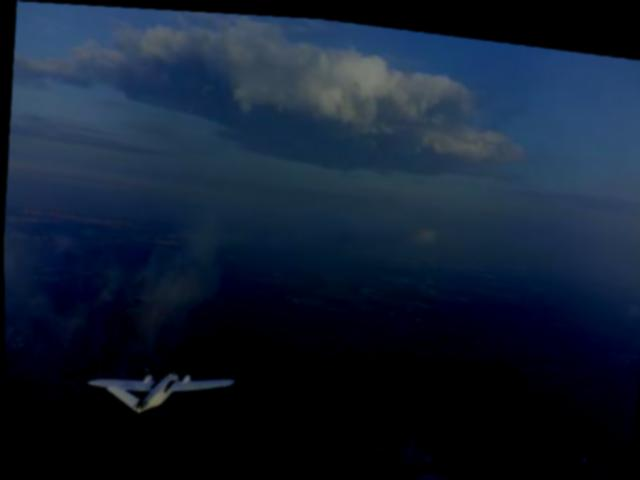uav: (82, 346, 242, 426)
